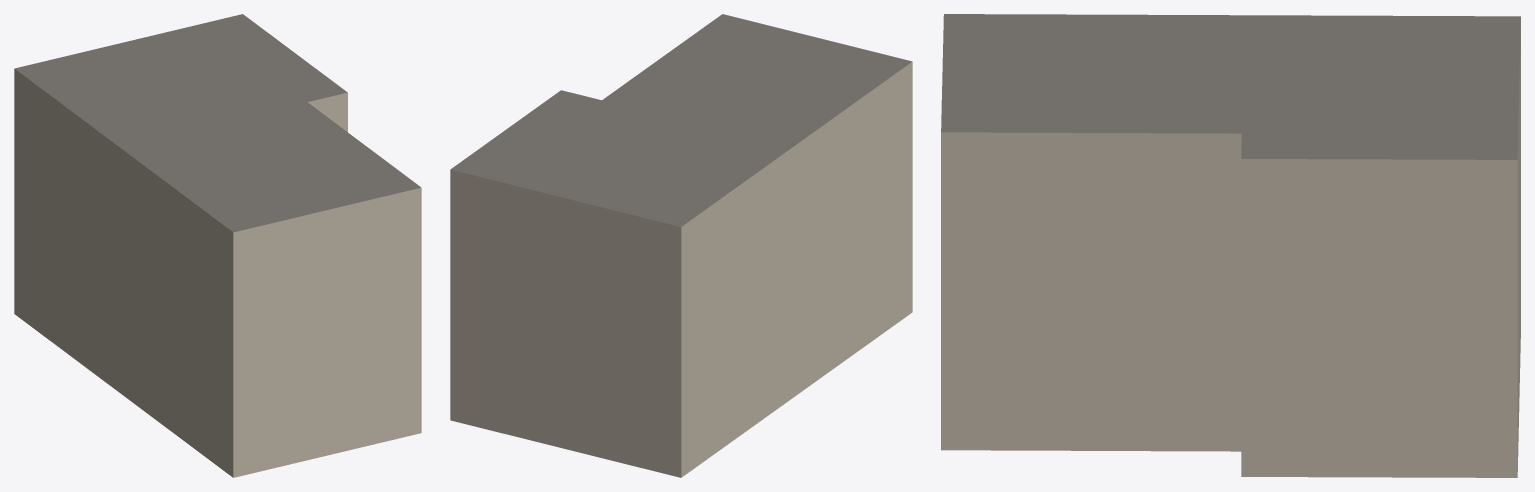
The picture shows the model from 3 angles, left to right: view 1: azimuth 30°, elevation 25°; view 2: azimuth 150°, elevation 25°; view 3: azimuth 270°, elevation 25°; orthographic projection. The views are drawn at different scales.
Visible parts, largest first — view 1: HP-w446934928; view 2: HP-w446934928; view 3: HP-w446934928.
Boxes of the visible parts, left/top/right/bottom form: HP-w446934928: left=14, top=14, right=421, bottom=477; HP-w446934928: left=450, top=14, right=912, bottom=477; HP-w446934928: left=941, top=14, right=1520, bottom=477.
Bounding box in the file's own units: 17.72 × 18 × 29.75.
